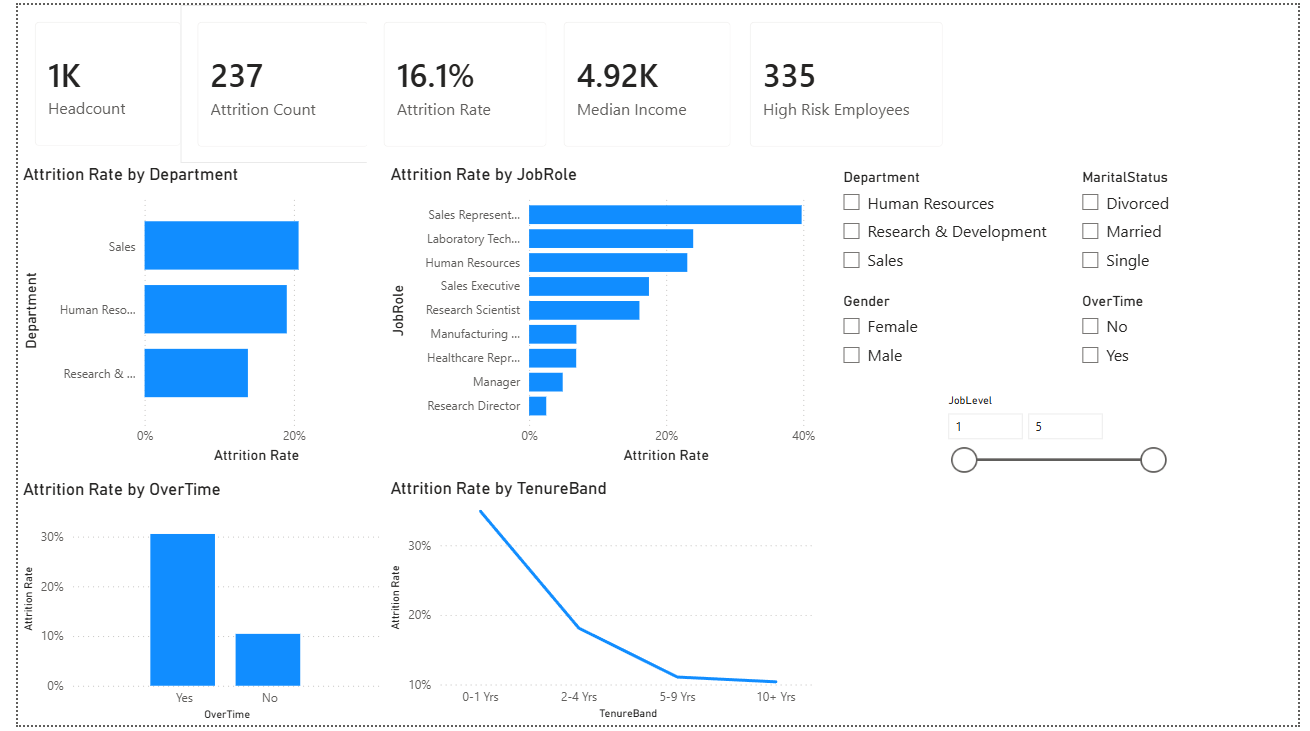

The dashboard page shown, as its layout file describes it:
{"tool":"powerbi","page":{"name":"Page 1","canvas":[1280,720],"ordinal":0},"visuals":[{"type":"cardVisual","fields":{"Data":["HR.Headcount"]},"box":[0,0,180,158.8],"z":0},{"type":"cardVisual","fields":{"Data":["HR.Attrition Count"]},"box":[161.9,0,205.8,159.2],"z":1000},{"type":"cardVisual","fields":{"Data":["HR.Attrition Rate"]},"box":[348.5,0,197.6,159.2],"z":2000},{"type":"cardVisual","fields":{"Data":["HR.Median Income"]},"box":[528.3,0,201.7,159.2],"z":3000},{"type":"cardVisual","fields":{"Data":["HR.High Risk Employees"]},"box":[715,0,227,159],"z":4000},{"type":"clusteredBarChart","fields":{"Category":["HR.Department"],"Y":["HR.Attrition Rate"]},"box":[0,159.2,367.8,304.6],"z":5000},{"type":"clusteredBarChart","fields":{"Category":["HR.JobRole"],"Y":["HR.Attrition Rate"]},"box":[367.8,159.2,435,304.6],"z":6000},{"type":"clusteredColumnChart","fields":{"Category":["HR.OverTime"],"Y":["HR.Attrition Rate"]},"box":[0,473.4,367.8,247],"z":7000},{"type":"lineChart","fields":{"Y":["HR.Attrition Rate"],"Category":["HR.TenureBand"]},"box":[368,473,435,247],"z":8000},{"type":"slicer","fields":{"Values":["HR.Department"]},"box":[812.4,159.2,238.8,123.5],"z":9000},{"type":"slicer","fields":{"Values":["HR.Gender"]},"box":[812.5,282.5,238.8,91.2],"z":10000},{"type":"slicer","fields":{"Values":["HR.JobLevel"]},"box":[917.5,383.8,238.8,117.5],"z":11000},{"type":"slicer","fields":{"Values":["HR.OverTime"]},"box":[1051,282,209,91],"z":12000},{"type":"slicer","fields":{"Values":["HR.MaritalStatus"]},"box":[1051,159,209,123],"z":13000}]}

Visuals, with their boxes in screenshot pixels (x1, y1, x2, y2), scaled from the page's 1280x720 canvas onto the 1310x731 screenshot:
cardVisual - HR.Headcount: (x1=0, y1=0, x2=184, y2=161)
cardVisual - HR.Attrition Count: (x1=166, y1=0, x2=376, y2=162)
cardVisual - HR.Attrition Rate: (x1=357, y1=0, x2=559, y2=162)
cardVisual - HR.Median Income: (x1=541, y1=0, x2=747, y2=162)
cardVisual - HR.High Risk Employees: (x1=732, y1=0, x2=964, y2=161)
clusteredBarChart - HR.Department x HR.Attrition Rate: (x1=0, y1=162, x2=376, y2=471)
clusteredBarChart - HR.JobRole x HR.Attrition Rate: (x1=376, y1=162, x2=822, y2=471)
clusteredColumnChart - HR.OverTime x HR.Attrition Rate: (x1=0, y1=481, x2=376, y2=730)
lineChart - HR.Attrition Rate x HR.TenureBand: (x1=377, y1=480, x2=822, y2=730)
slicer - HR.Department: (x1=831, y1=162, x2=1076, y2=287)
slicer - HR.Gender: (x1=832, y1=287, x2=1076, y2=379)
slicer - HR.JobLevel: (x1=939, y1=390, x2=1183, y2=509)
slicer - HR.OverTime: (x1=1076, y1=286, x2=1290, y2=379)
slicer - HR.MaritalStatus: (x1=1076, y1=161, x2=1290, y2=286)
